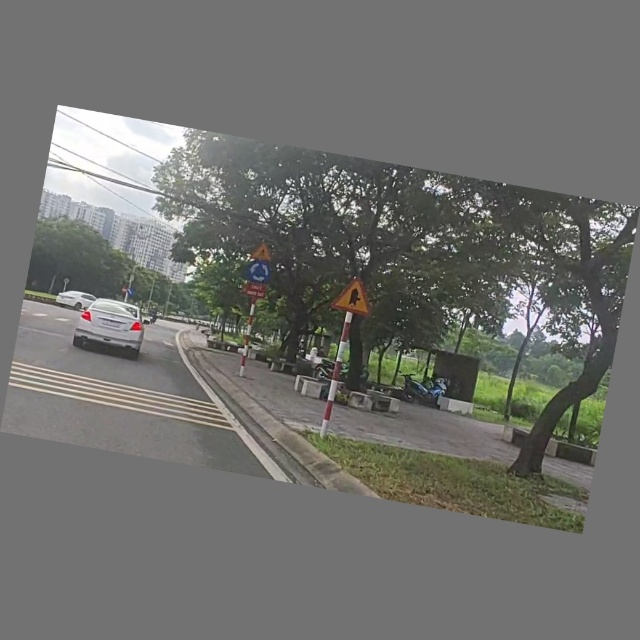P.102: (120, 287, 128, 294)
R.302a: (127, 288, 135, 297)
R.303: (246, 262, 274, 286)
W.207: (327, 274, 377, 318)
W.224: (250, 239, 275, 264)
